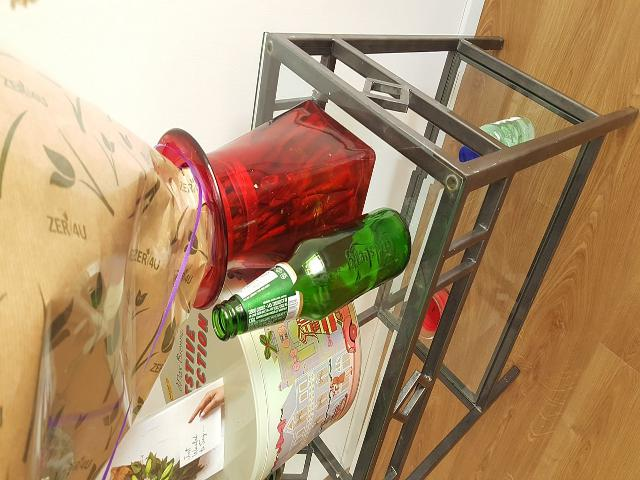beer: (211, 208, 411, 338)
